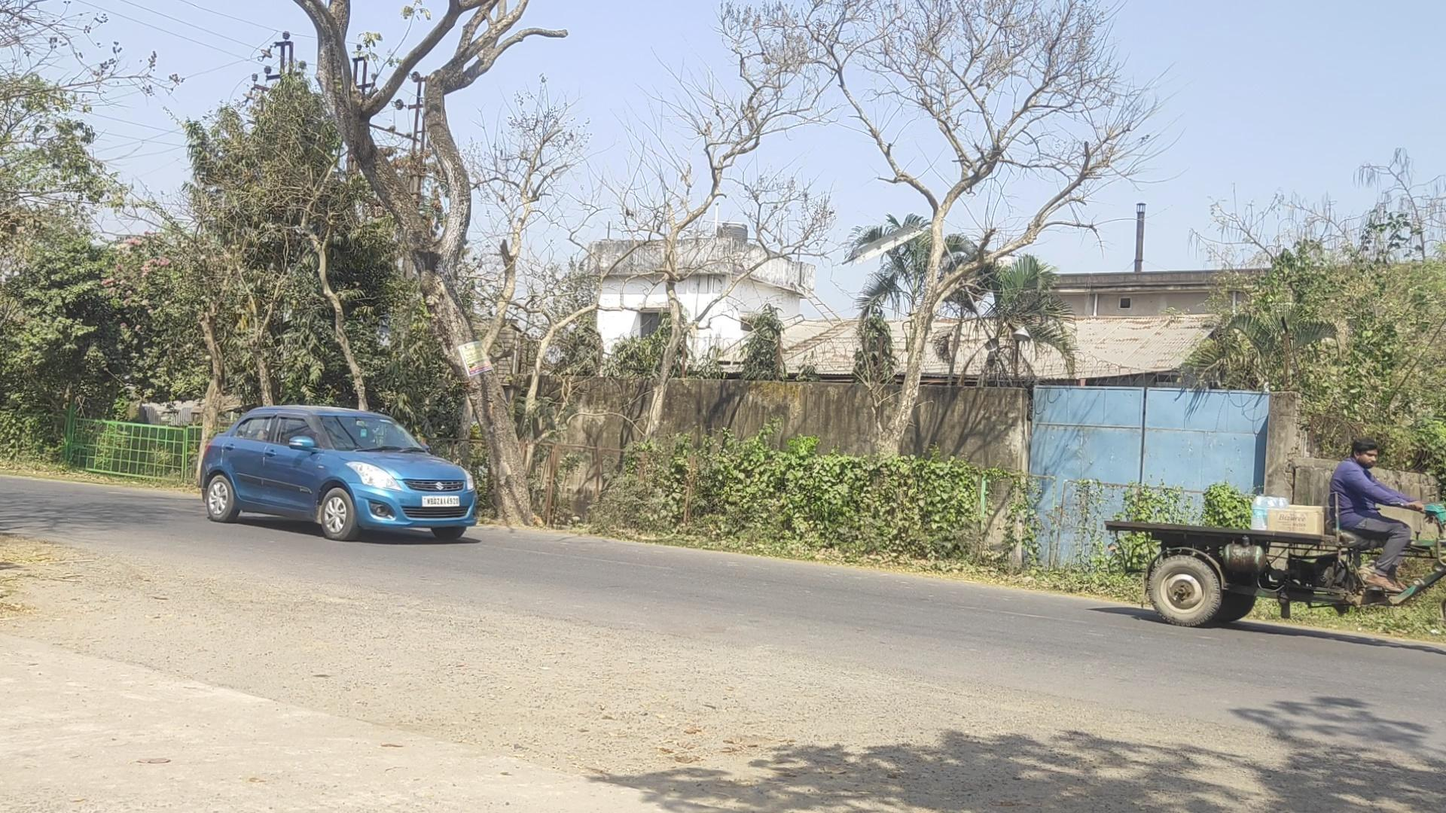car: (199, 404, 476, 543)
